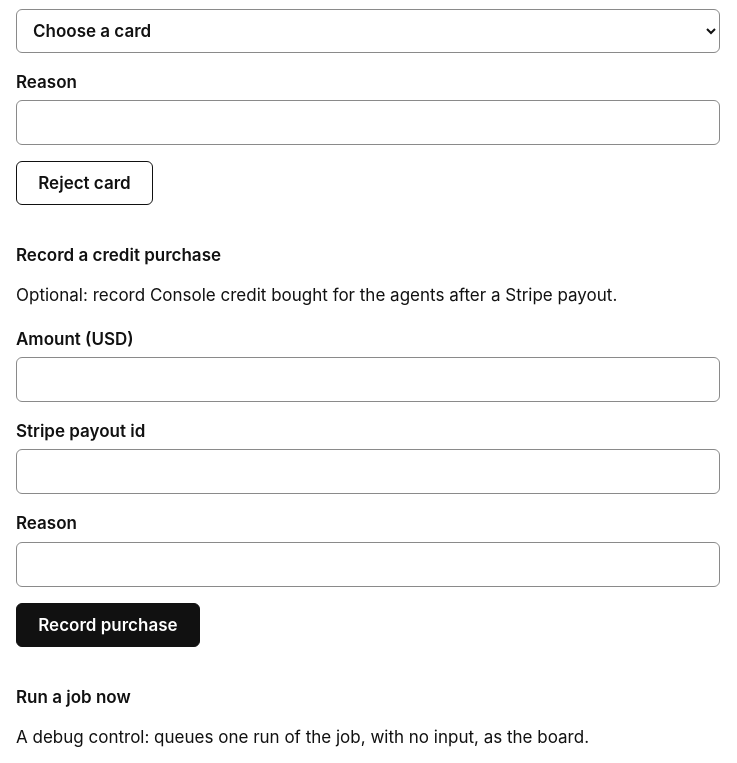
Test case: Actions › records a credit purchase with the contract arguments
The width and height of the screenshot is (737, 763).
(page scrolled)
Step 1. Type "12.5" into the number field labelled "Amount (USD)" → (368, 380), box [16,357,720,402]
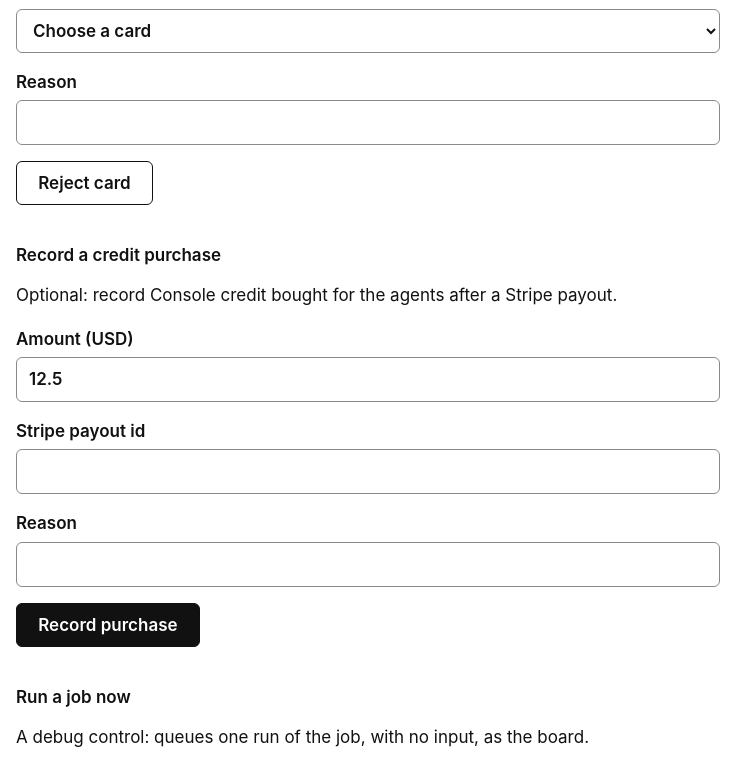
Step 2. Type " po_123 " into the field labelled "Stripe payout id" → (368, 472), box [16,449,720,494]
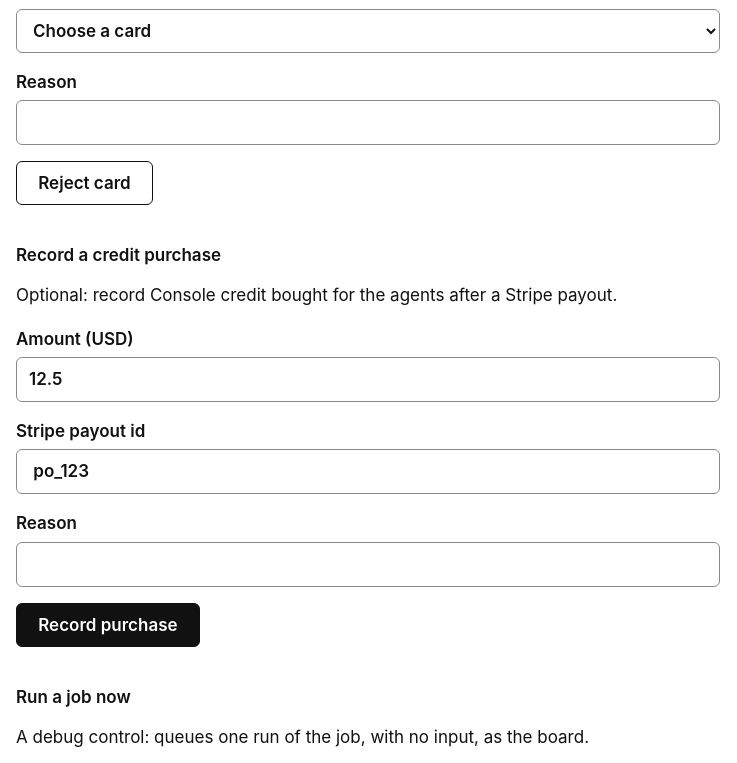
Step 3. Type "October credit" into the field labelled "Reason" below "Stripe payout id" → (368, 564), box [16,542,720,587]
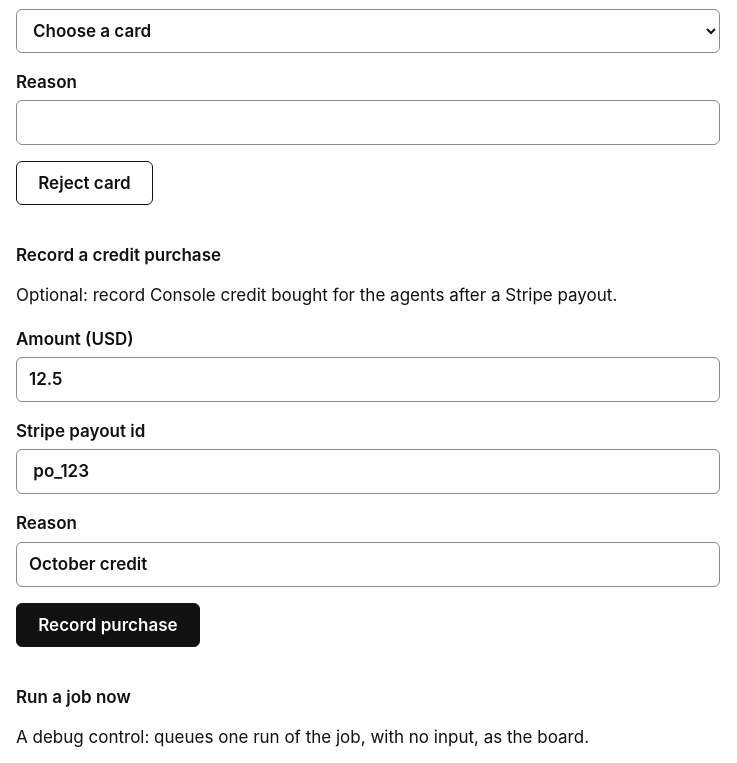
Step 4. Submit the form "Record a credit purchase", box [16,245,720,647]
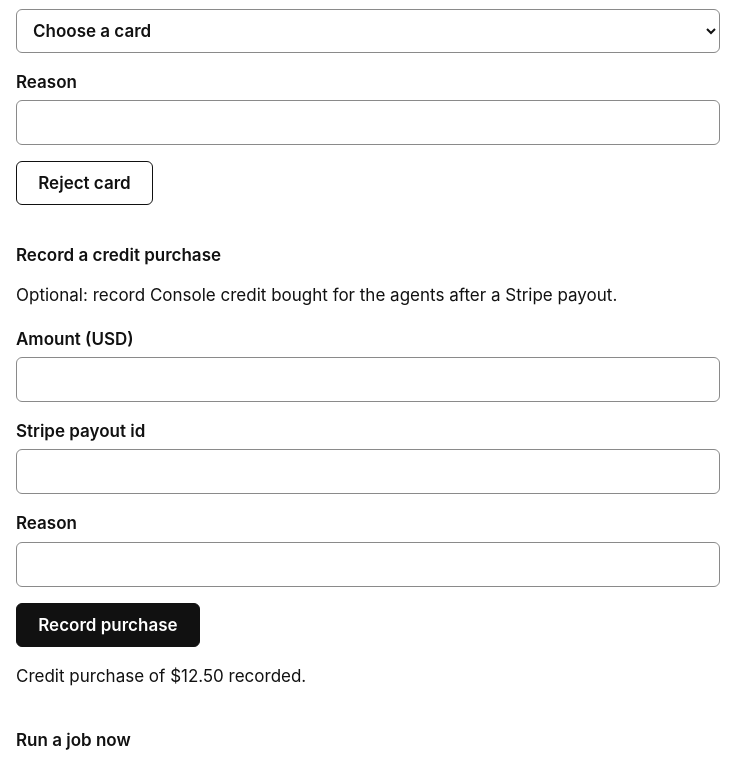
Now the text "Credit purchase of $12.50 recorded." is shown, box [16,666,306,686]
